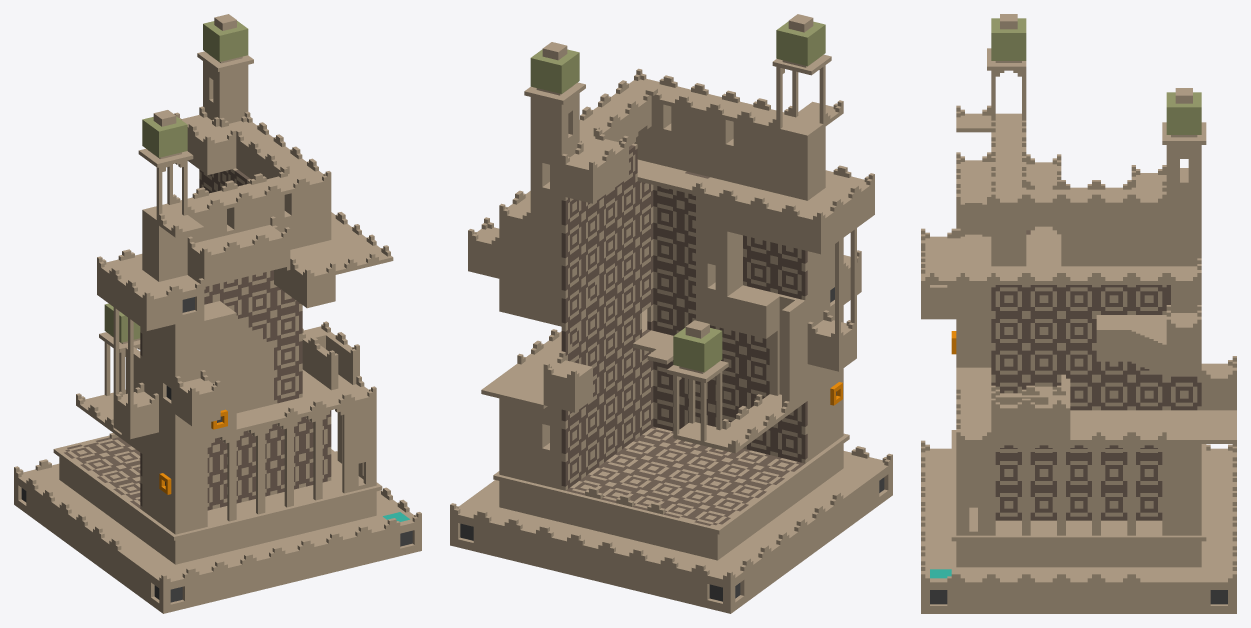
Rendered from testLevel.obj.
3 views of the same model, side by side, from view 1: azimuth 30°, elevation 25°; view 2: azimuth 150°, elevation 25°; view 3: azimuth 270°, elevation 25° (orthographic). The views are drawn at different scales.
Visible parts, largest first — view 1: testLevel; view 2: testLevel; view 3: testLevel.
Part boxes in pixels (x1,y1,x2,y2): testLevel: [14, 14, 421, 613]; testLevel: [450, 14, 892, 613]; testLevel: [921, 14, 1236, 613].
Bounding box in the file's own units: 72 × 122 × 72.
1 material, 1 textured.
